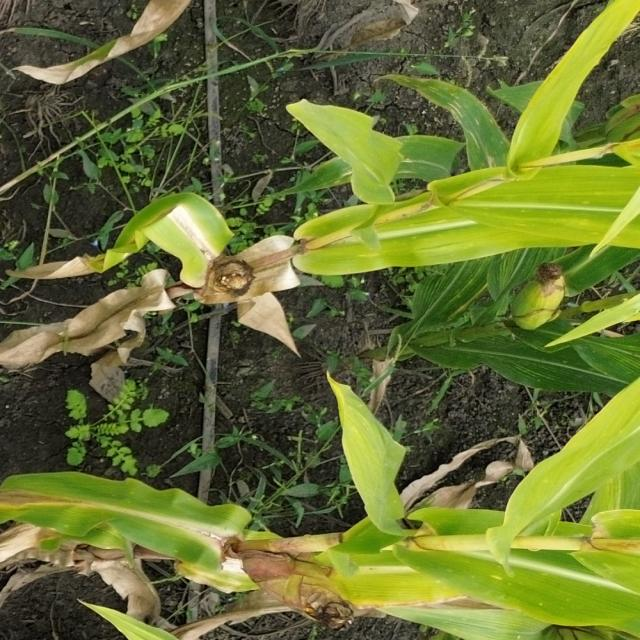gray-leaf-spot: (415, 62, 533, 198)
northern-leaf-blight: (0, 478, 238, 548), (135, 194, 237, 292)
southern-leaf-blight: (447, 538, 612, 638), (493, 314, 640, 413)
